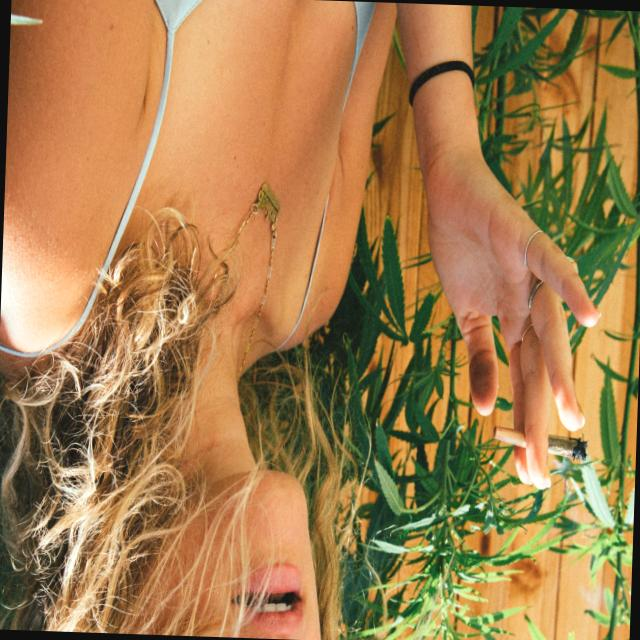cigarette: (482, 412, 594, 480)
